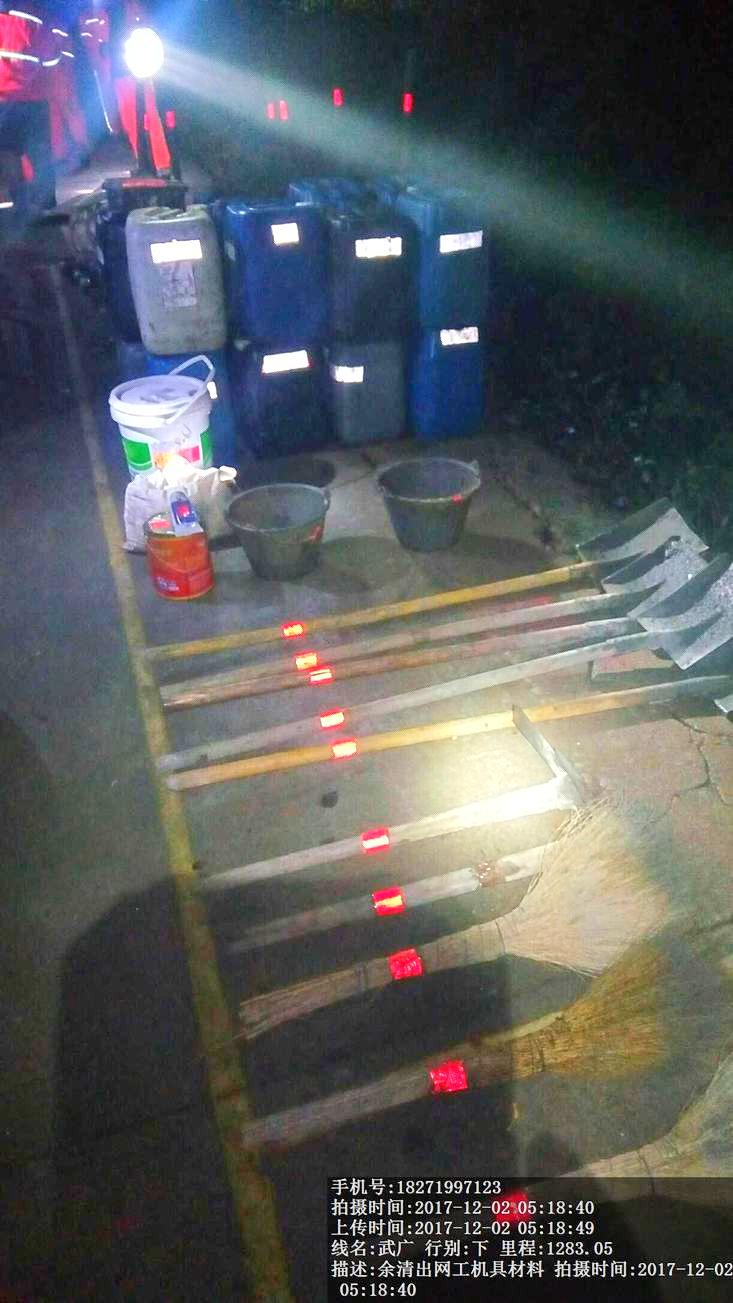SLT: (214, 184, 337, 345)
SNT: (366, 449, 499, 553), (223, 479, 335, 579)
